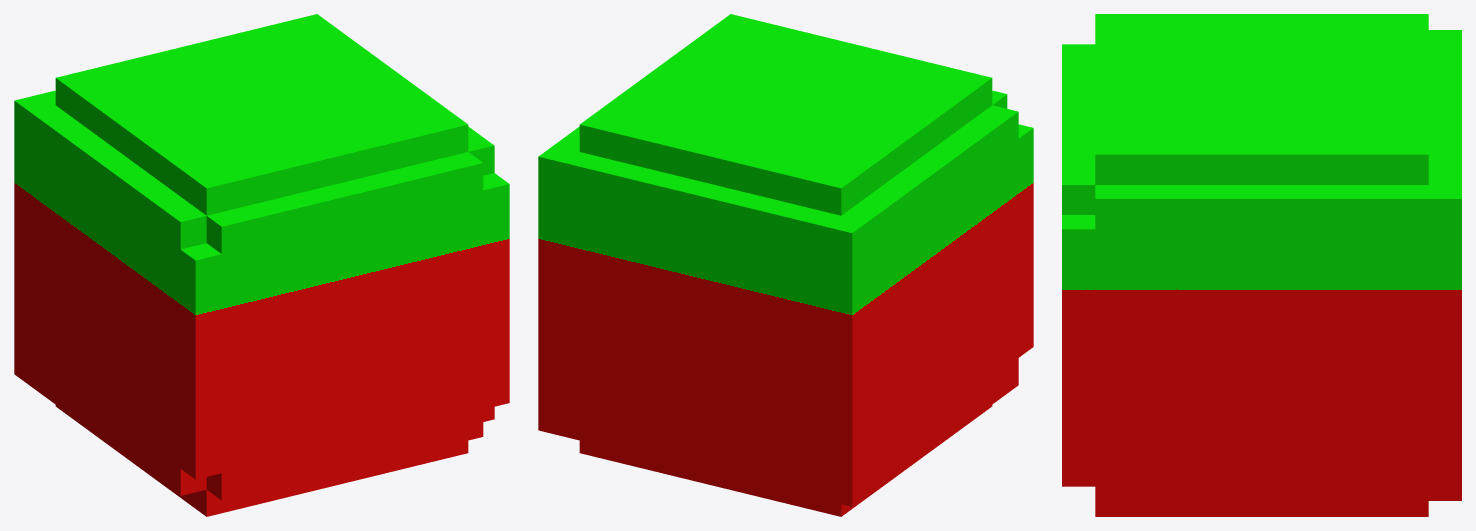
Rendered from Boat_Engine.fbx.
3 views of the same model, side by side, from view 1: azimuth 30°, elevation 25°; view 2: azimuth 150°, elevation 25°; view 3: azimuth 270°, elevation 25° (orthographic). The views are drawn at different scales.
Visible parts, largest first — view 1: Boat_Engine.001; view 2: Boat_Engine.001; view 3: Boat_Engine.001.
Boxes of the visible parts, bbox=[...] form: Boat_Engine.001: bbox=[14, 14, 509, 516]; Boat_Engine.001: bbox=[538, 14, 1033, 516]; Boat_Engine.001: bbox=[1062, 14, 1461, 516].
Bounding box in the file's own units: 1.2 × 1.2 × 1.2.
Materials: 1 (1 with a texture image).
